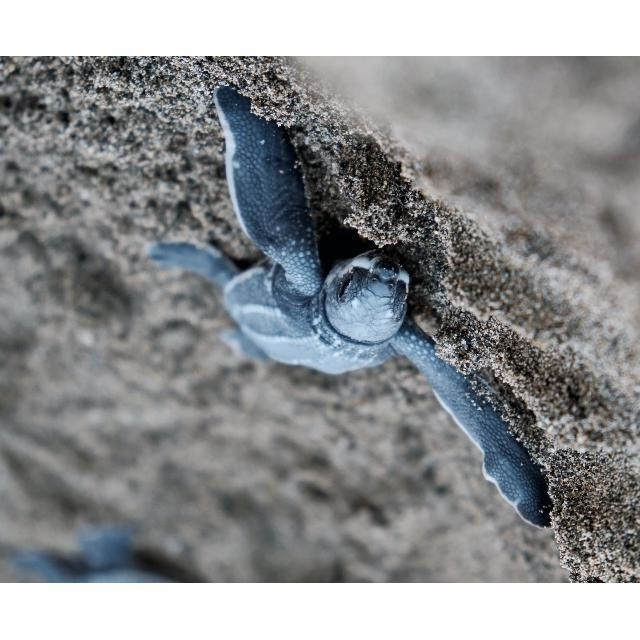turtle: (151, 85, 556, 531)
